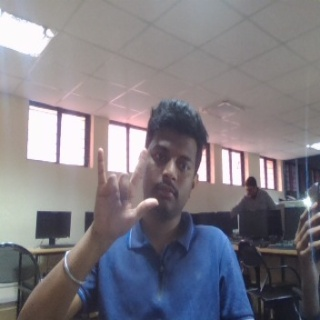I Love You: (91, 145, 160, 237)
